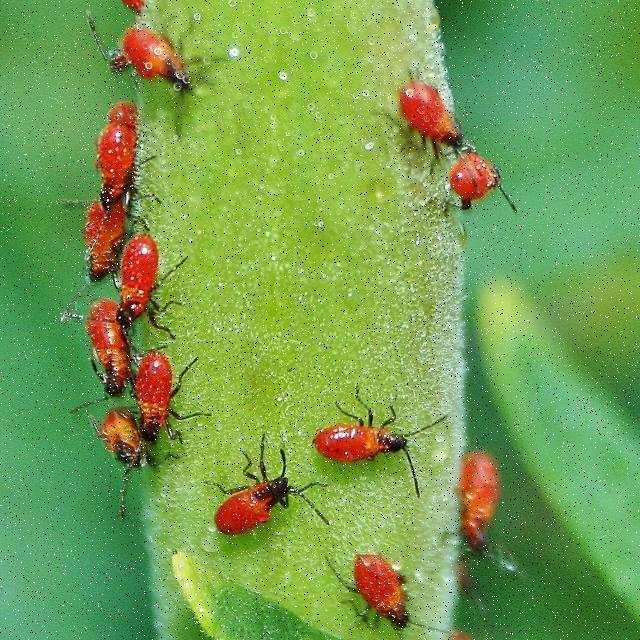Aphids: (184, 428, 308, 547), (52, 271, 156, 399), (40, 191, 157, 301), (307, 394, 446, 486), (367, 58, 481, 164), (428, 448, 518, 578), (55, 77, 143, 207), (111, 8, 212, 108), (121, 335, 213, 438), (334, 540, 426, 640), (437, 125, 514, 220), (81, 395, 157, 486), (113, 236, 180, 336)
